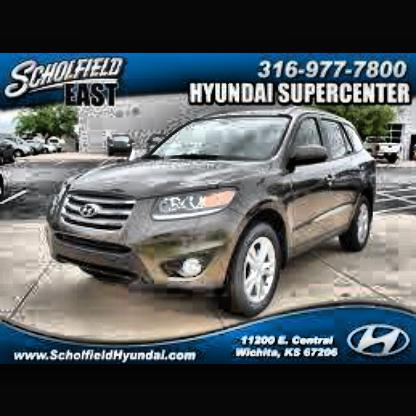Hyundai Santa Fe SUV 2012: (47, 109, 379, 321)
